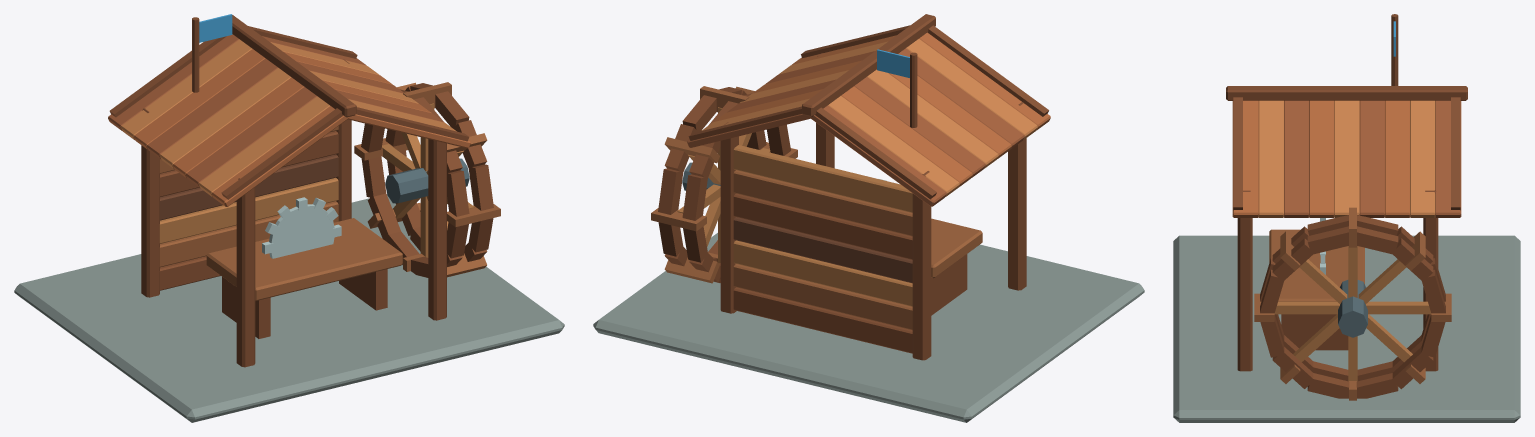
The model's file is sawmill.glb.
3 renders of one model, left to right at view 1: azimuth 30°, elevation 25°; view 2: azimuth 150°, elevation 25°; view 3: azimuth 270°, elevation 25°, orthographic. The views are drawn at different scales.
Parts seen in each view (by area): view 1: sawmill game mesh; view 2: sawmill game mesh; view 3: sawmill game mesh.
Part boxes in pixels (x1,y1,x2,y2): sawmill game mesh: (14,14,564,422); sawmill game mesh: (593,14,1144,422); sawmill game mesh: (1173,14,1520,422).
Size of the model in its own units: 7.1 by 5.3 by 5.8.
